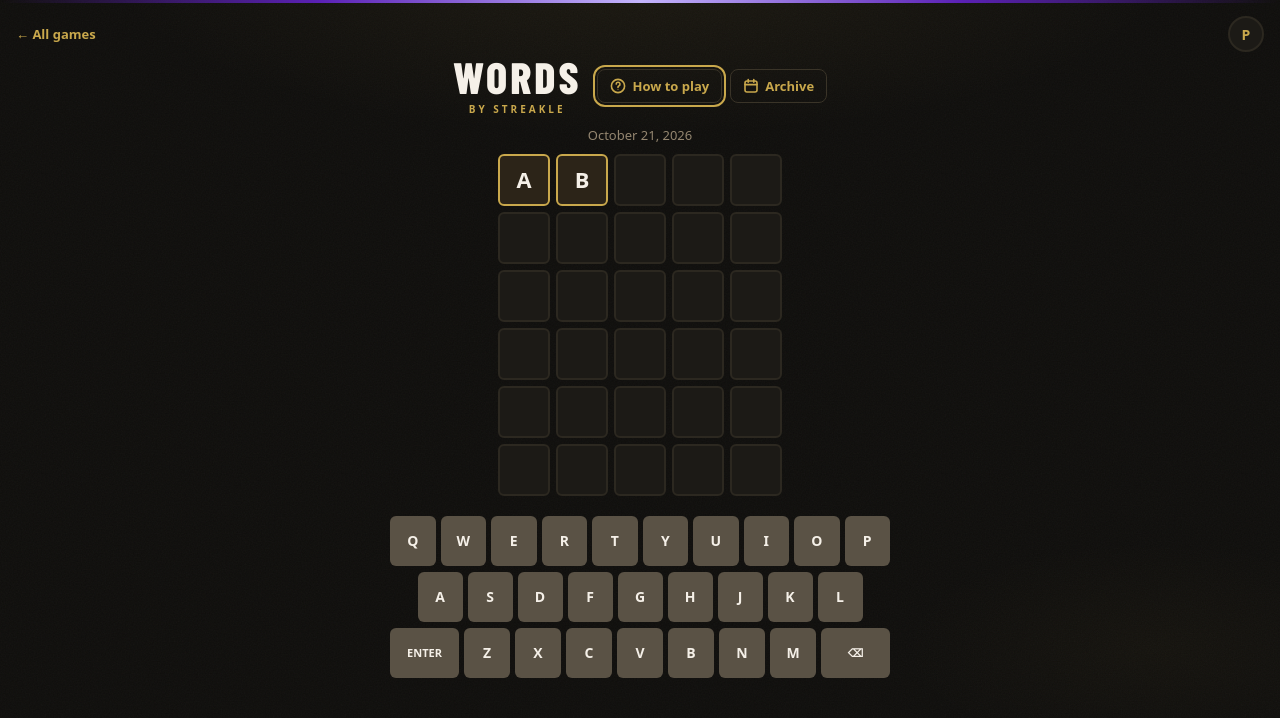
Test case: Words: Enter on a focused page button with letters typed (F160) › toggles How to play with a partial guess typed, and says nothing about letters
Step 1. Press Enter in the button with aria-label "How to play", box [598,69,722,103]
Step 2. Click the button with aria-label "How to play" → (660,86), box [598,69,722,103]
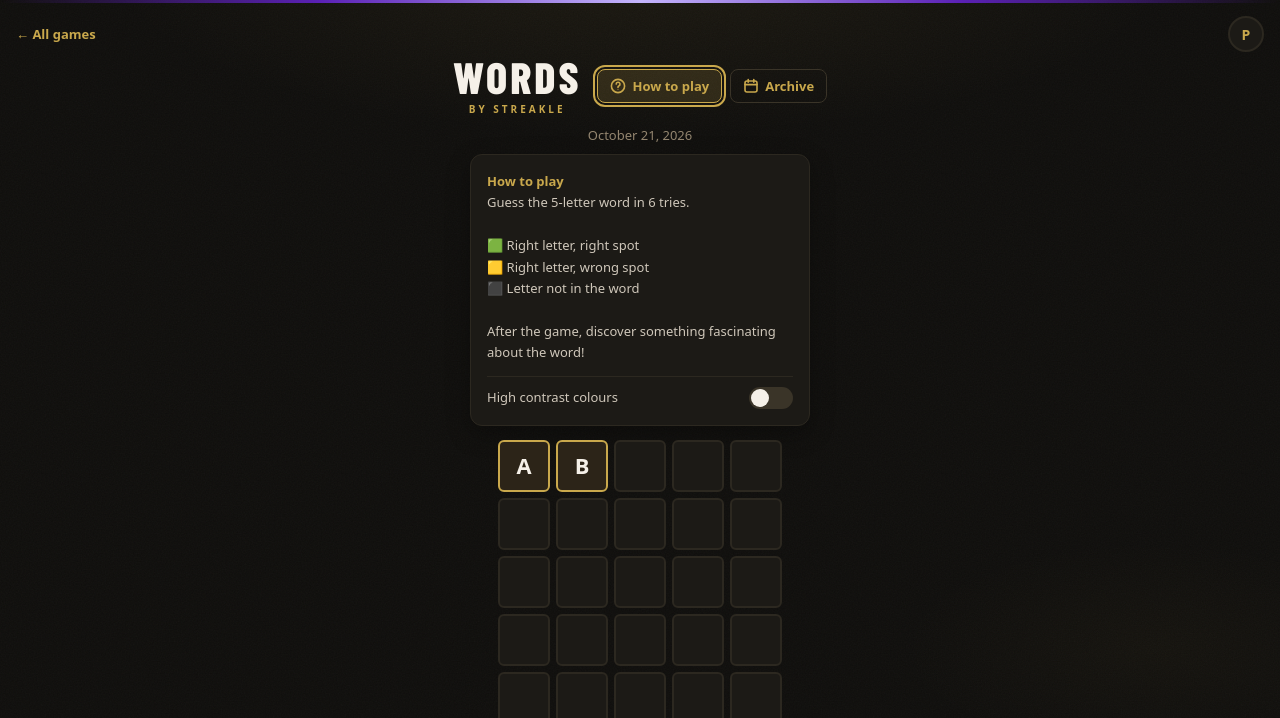
Result: the button with aria-label "How to play" is expanded at [598,69,722,103]
